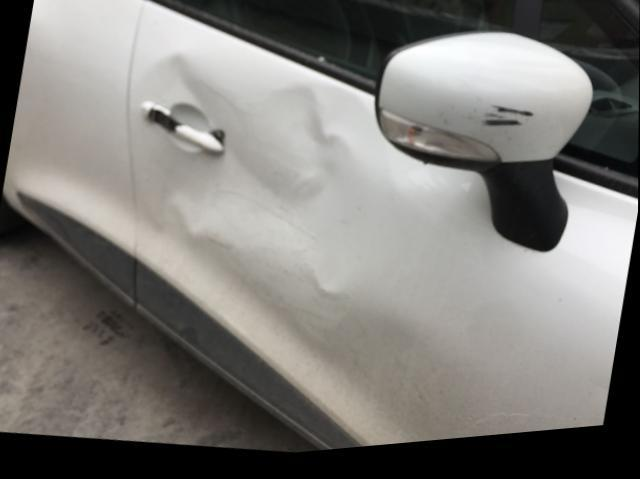dent: (138, 51, 337, 211), (168, 173, 232, 233)
